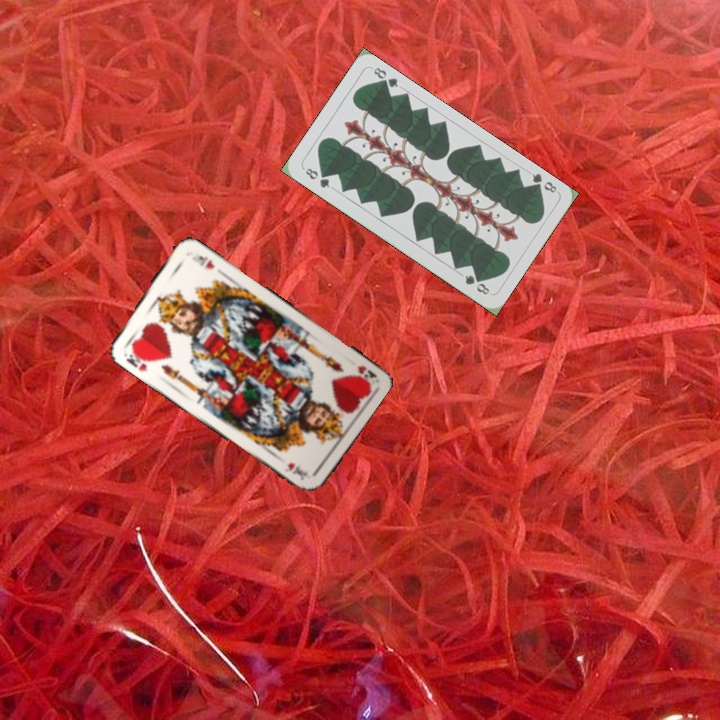G8: (527, 169, 561, 196), (301, 164, 332, 191)
HK: (119, 345, 153, 374), (354, 361, 379, 386)
